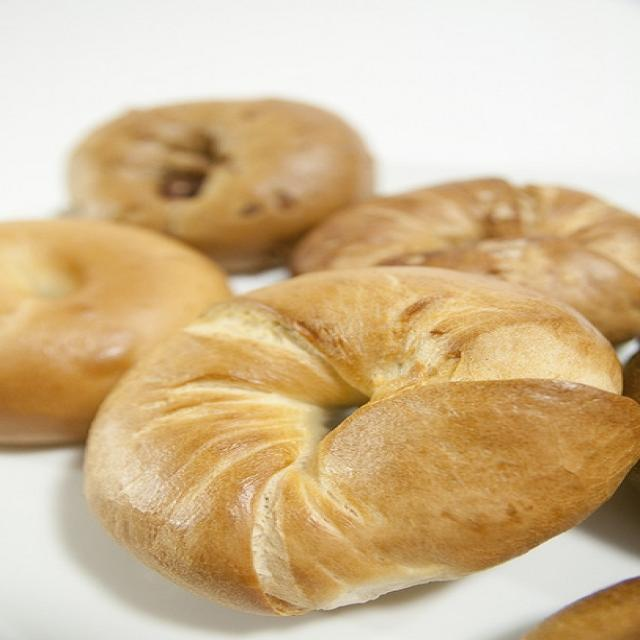面包点心: (13, 37, 629, 616)
